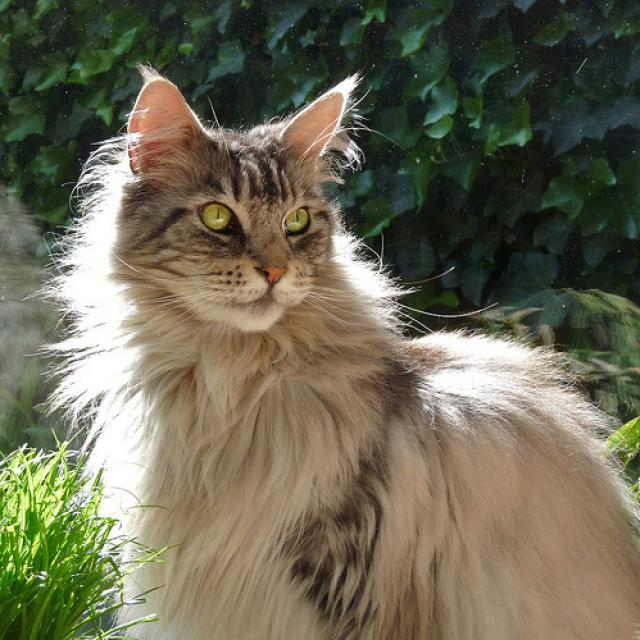Maine_Coon: (100, 66, 353, 352)
